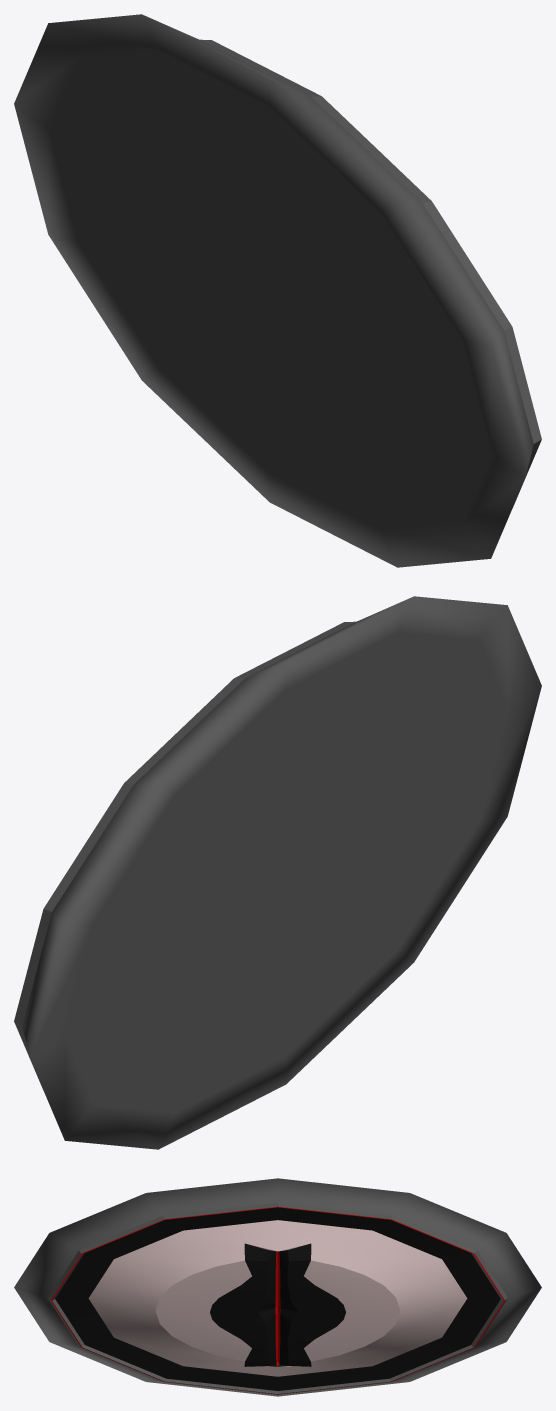
File: PH_CAV_TARGET_B.FBX
3 views of the same model, one above another, from view 1: azimuth 30°, elevation 25°; view 2: azimuth 150°, elevation 25°; view 3: azimuth 270°, elevation 25° (orthographic). The views are drawn at different scales.
Visible parts, largest first — view 1: cible; view 2: cible; view 3: cible.
Boxes of the visible parts, box(x1,y1,x2,y2) form: cible: box(14, 14, 541, 567); cible: box(14, 596, 541, 1149); cible: box(14, 1178, 541, 1396).
Bounding box in the file's own units: 18.57 × 76.26 × 167.
